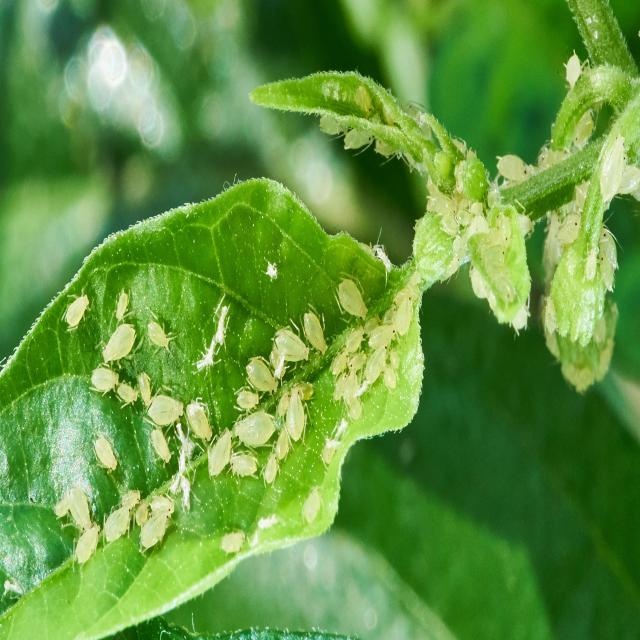Aphid-Grouped-: (74, 275, 389, 564), (426, 168, 540, 346)
Aphid-Grown-: (594, 121, 628, 216), (94, 312, 146, 373), (328, 266, 372, 328), (136, 506, 172, 572), (283, 381, 317, 450), (142, 308, 186, 359), (243, 348, 283, 400), (297, 300, 334, 356), (270, 320, 313, 364), (63, 277, 96, 333), (142, 389, 186, 431), (231, 410, 277, 449), (89, 426, 122, 480), (70, 519, 102, 573), (207, 423, 234, 487), (185, 393, 218, 444), (140, 421, 176, 467), (552, 203, 586, 251), (495, 145, 533, 186), (341, 116, 376, 158), (100, 505, 134, 547), (559, 46, 590, 90), (87, 359, 122, 397), (230, 381, 264, 419), (226, 445, 258, 484), (354, 81, 381, 125), (113, 380, 143, 413), (270, 426, 296, 464), (259, 448, 281, 492), (112, 282, 136, 321), (48, 492, 78, 522), (134, 365, 155, 407)
